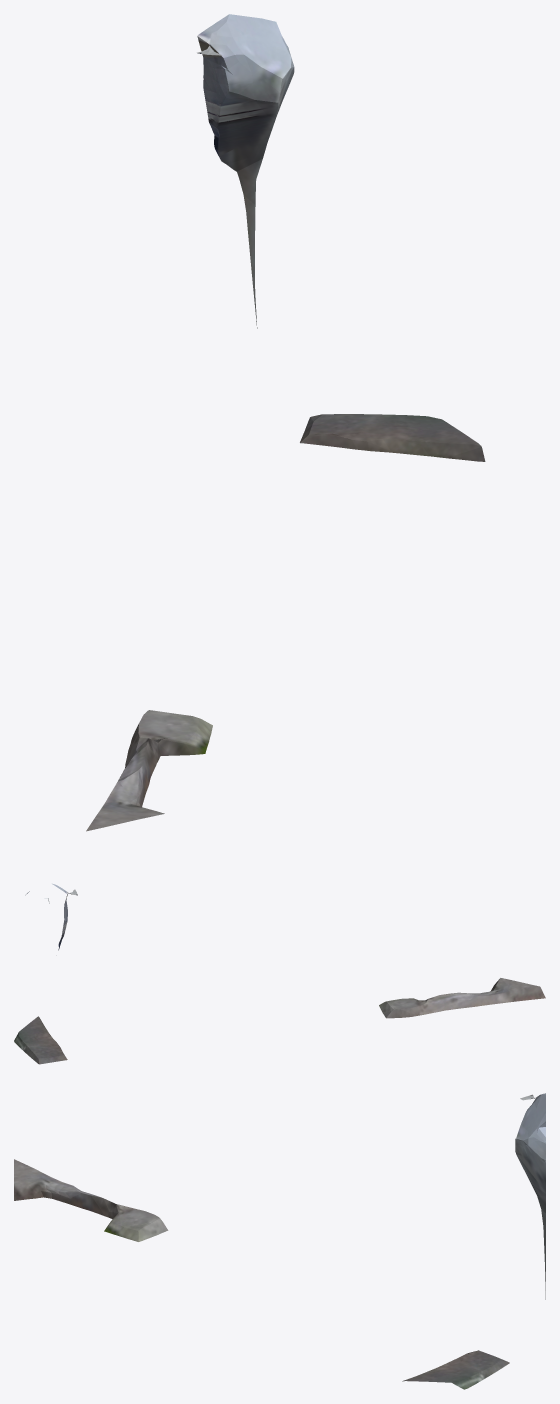
The picture shows the model from 3 angles, top to bottom: view 1: azimuth 30°, elevation 25°; view 2: azimuth 150°, elevation 25°; view 3: azimuth 270°, elevation 25°; orthographic projection. The views are drawn at different scales.
Bounding box in the file's own units: 4.11 × 2.18 × 4.18.
1 material, 1 textured.
